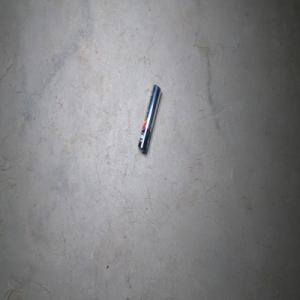Battery: (137, 83, 161, 154)
